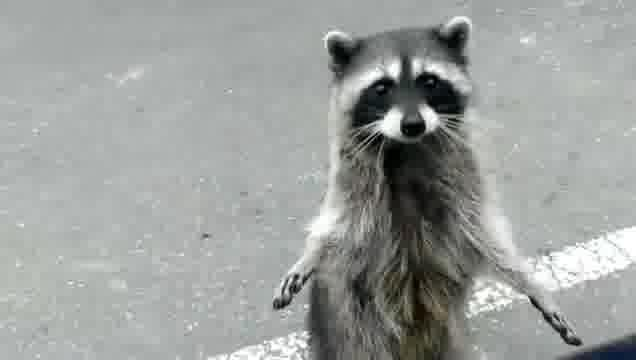raccoon: (271, 18, 584, 360)
